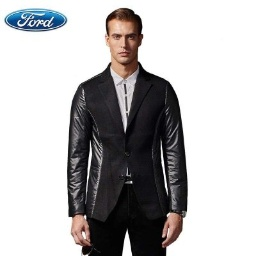face: (105, 7, 145, 65)
